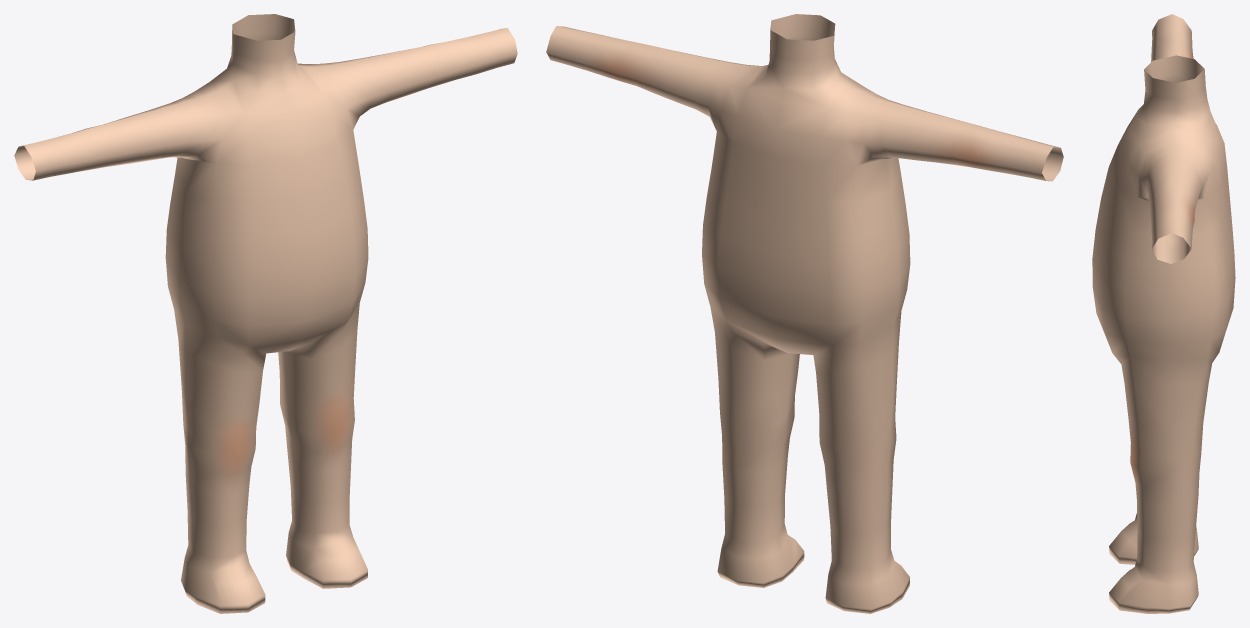
The model's file is Body_2.fbx.
3 renders of one model, left to right at view 1: azimuth 30°, elevation 25°; view 2: azimuth 150°, elevation 25°; view 3: azimuth 270°, elevation 25°, orthographic. The views are drawn at different scales.
Visible parts, largest first — view 1: Body_2; view 2: Body_2; view 3: Body_2.
Part boxes in pixels (x1,y1,x2,y2): Body_2: (14, 14, 517, 613); Body_2: (546, 14, 1063, 613); Body_2: (1092, 14, 1235, 613).
Size of the model in its own units: 95.86 by 104 by 26.46.
